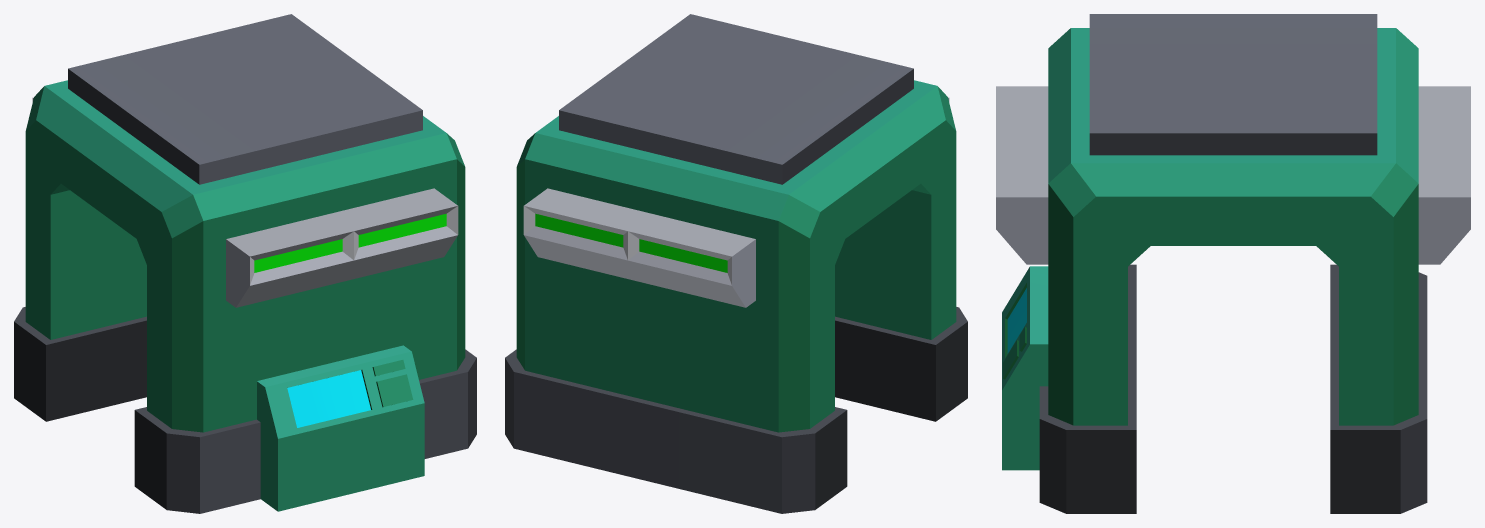
The model's file is NF_Machine_00_A.fbx.
3 renders of one model, left to right at view 1: azimuth 30°, elevation 25°; view 2: azimuth 150°, elevation 25°; view 3: azimuth 270°, elevation 25°, orthographic. The views are drawn at different scales.
Visible parts, largest first — view 1: NF_Machine_00_A; view 2: NF_Machine_00_A; view 3: NF_Machine_00_A.
Boxes of the visible parts, x1,y1,x2,y2 form: NF_Machine_00_A: [14, 14, 476, 513]; NF_Machine_00_A: [505, 14, 967, 513]; NF_Machine_00_A: [996, 14, 1470, 513].
Size of the model in its own units: 2.11 by 2.13 by 2.56.
Materials: 1 (1 with a texture image).
